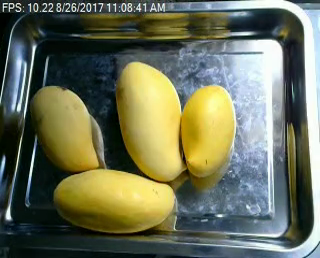Mango: (113, 56, 188, 178), (48, 169, 182, 233), (177, 80, 243, 182), (28, 84, 105, 170)
